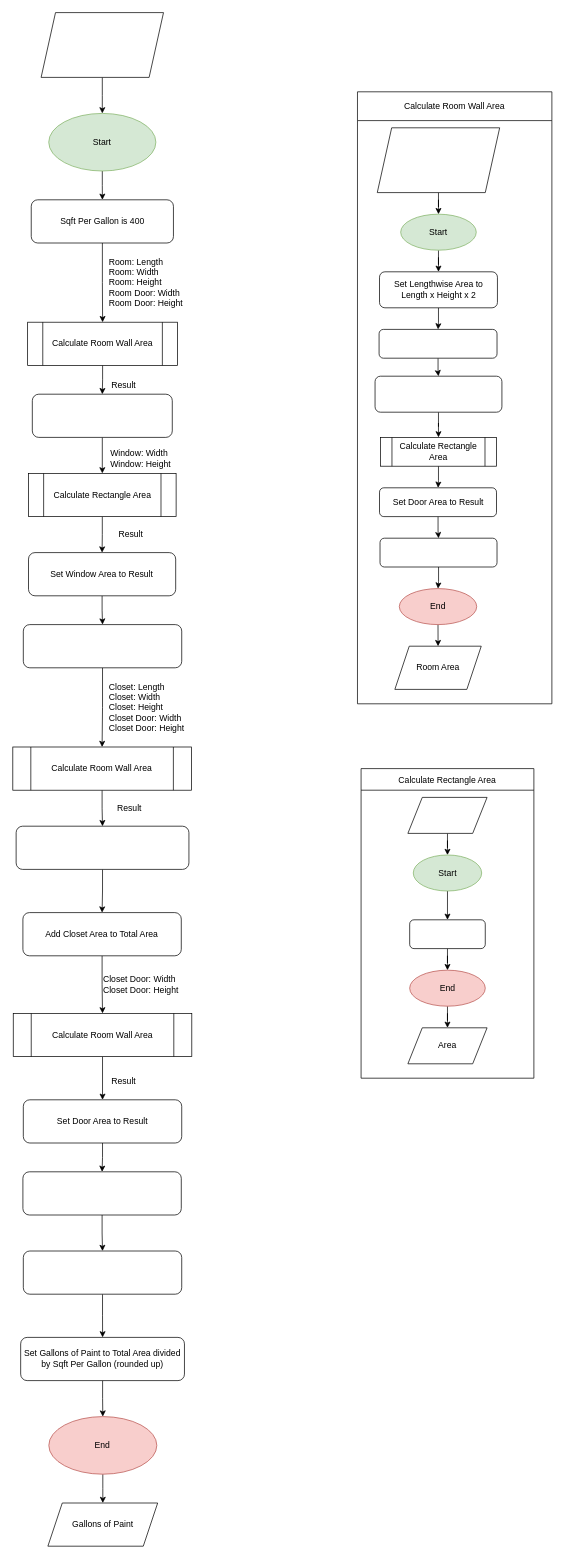
Image size: 564x1559. Some labels were removed from this diagram. The shapes that lost their labels are listed below. From the top down, each one's box as (x1, y1, x2, y2) in pixels, then its label:
(40, 12, 164, 77): Room, Room Door, Window, Closet, Closet Door, Number of Coats
(377, 127, 500, 193): Length, Depth, Height, Door Width, Door Height
(378, 329, 497, 358): Set Depthwise Area to Depth x Height x 2
(374, 375, 502, 412): Set Room Area to Lengthwise Area + Depthwise Area
(32, 393, 172, 437): Set Total Area to Result
(379, 537, 497, 567): Subtract Door Area from Room Area
(23, 624, 182, 668): Subtract Window Area to Total Area
(407, 797, 487, 833): Lengthx, Width
(15, 825, 189, 869): Set Closet Area to Result
(409, 919, 485, 949): Set Area to Length x Width
(22, 1171, 181, 1215): Subtract Door Area from Total Area
(23, 1250, 182, 1294): Multiply Total Area by Number of Coats
